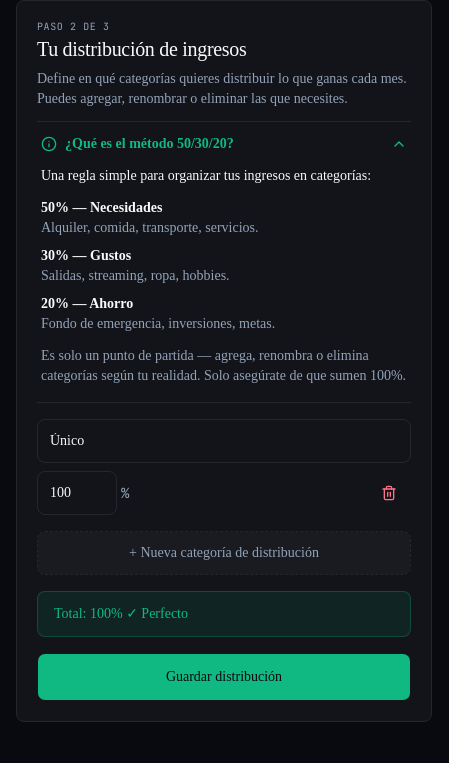
Test: OnboardingStep2 › blocks deleting the last remaining bucket
The image size is (449, 763).
Click the button named "eliminar categoría" at (389, 493), box [367,471,411,515]
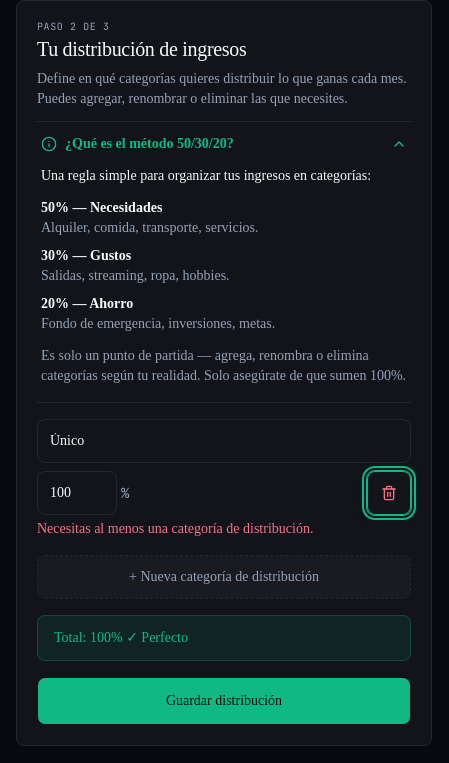
Expected: the text "Necesitas al menos una categoría de distribución." is shown, [37,521,313,536]
